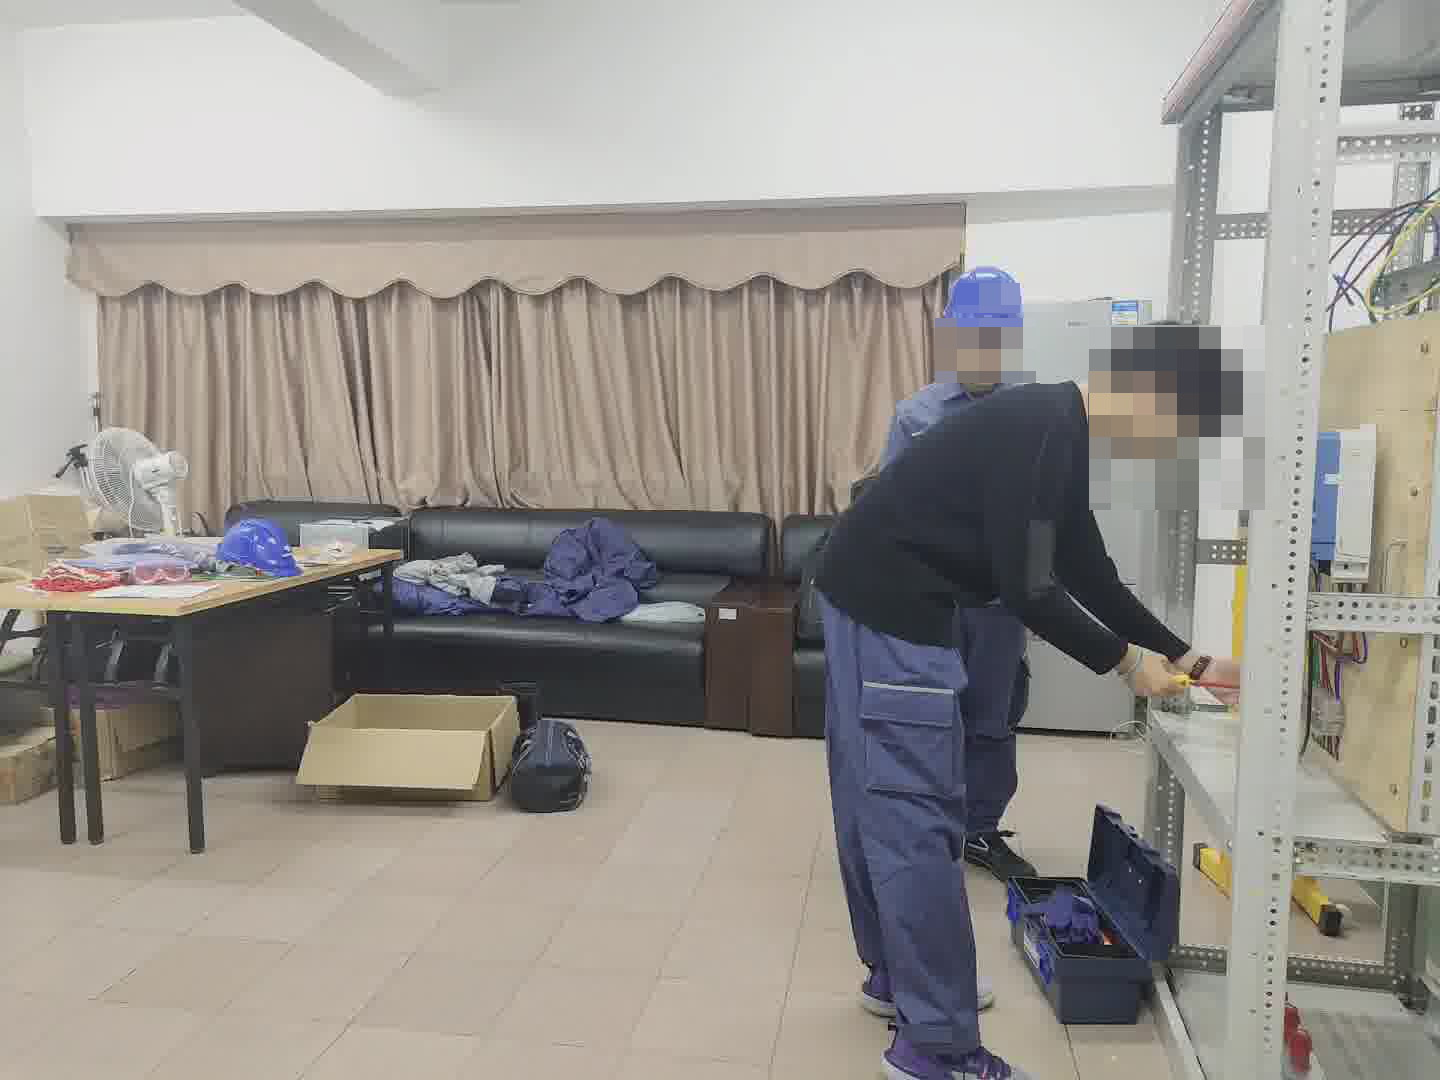downsuit: (820, 658, 986, 1050)
halt: (1086, 317, 1243, 471), (938, 262, 1029, 391)
hand: (1115, 643, 1183, 703)
noear: (1115, 360, 1173, 440)
person: (806, 256, 1240, 1080)
upcloth: (811, 375, 1184, 656)
